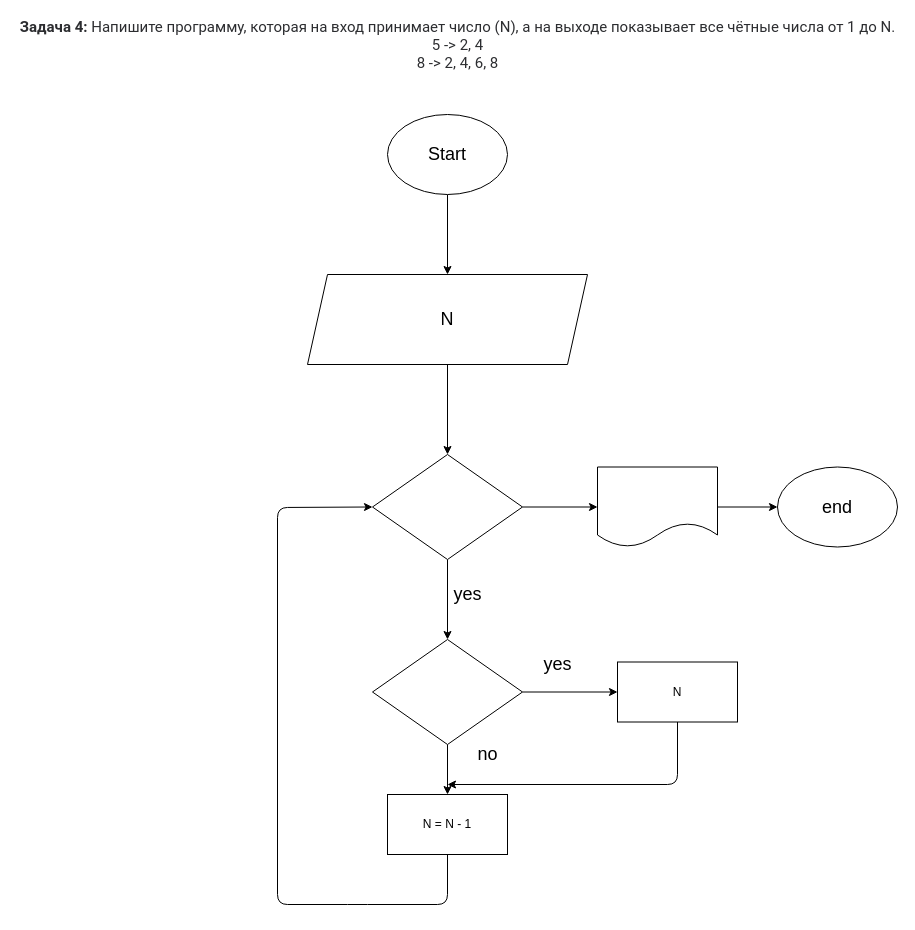
Image size: 915x930. Some labels were removed from this diagram. The shapes that lost their labels are listed below. From the top down, each one's centre as x and y in pixels, then its label:
At point (447, 507): "N > 1".
At point (657, 506): "print".
At point (447, 691): "N % 2 = 0".
